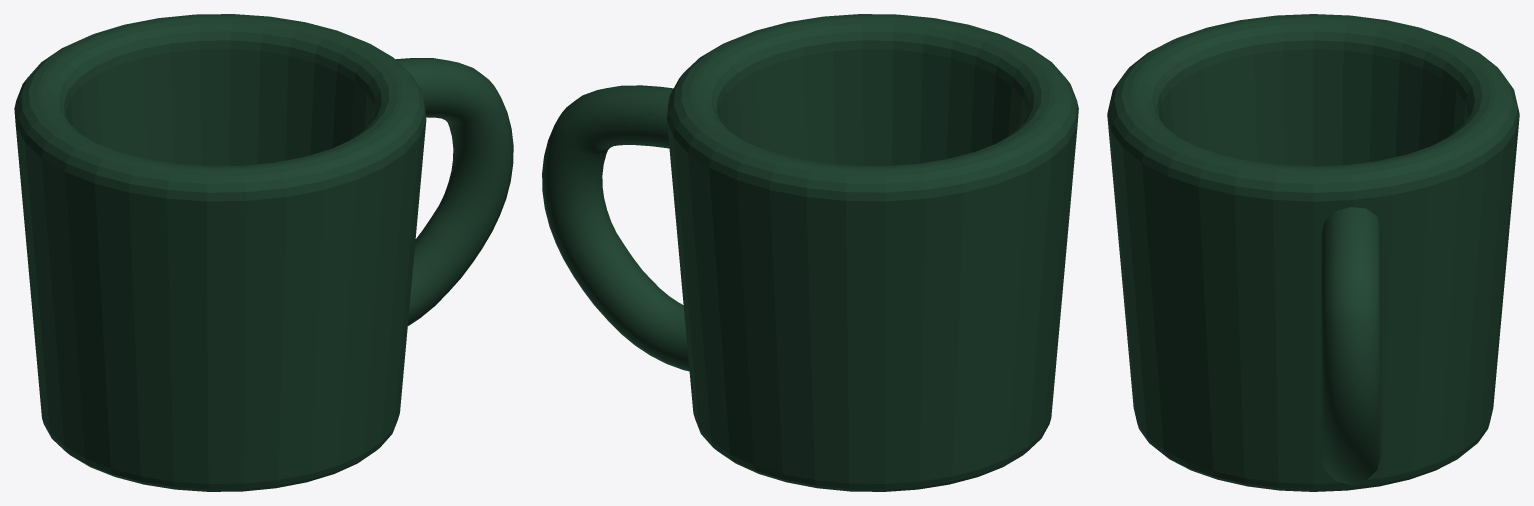
The model's file is kubek-pionek.glb.
The picture shows the model from 3 angles, left to right: view 1: azimuth 30°, elevation 25°; view 2: azimuth 150°, elevation 25°; view 3: azimuth 270°, elevation 25°; orthographic projection.
Visible parts, largest first — view 1: Cylinder, Torus; view 2: Cylinder, Torus; view 3: Cylinder, Torus.
Part boxes in pixels (x1=…): Cylinder: x1=14, y1=14, x2=426, y2=491; Torus: x1=396, y1=58, x2=513, y2=325; Cylinder: x1=667, y1=14, x2=1078, y2=491; Torus: x1=542, y1=85, x2=689, y2=371; Cylinder: x1=1107, y1=14, x2=1519, y2=491; Torus: x1=1321, y1=207, x2=1381, y2=484.
Size of the model in its own units: 3.12 by 2.01 by 2.29.
